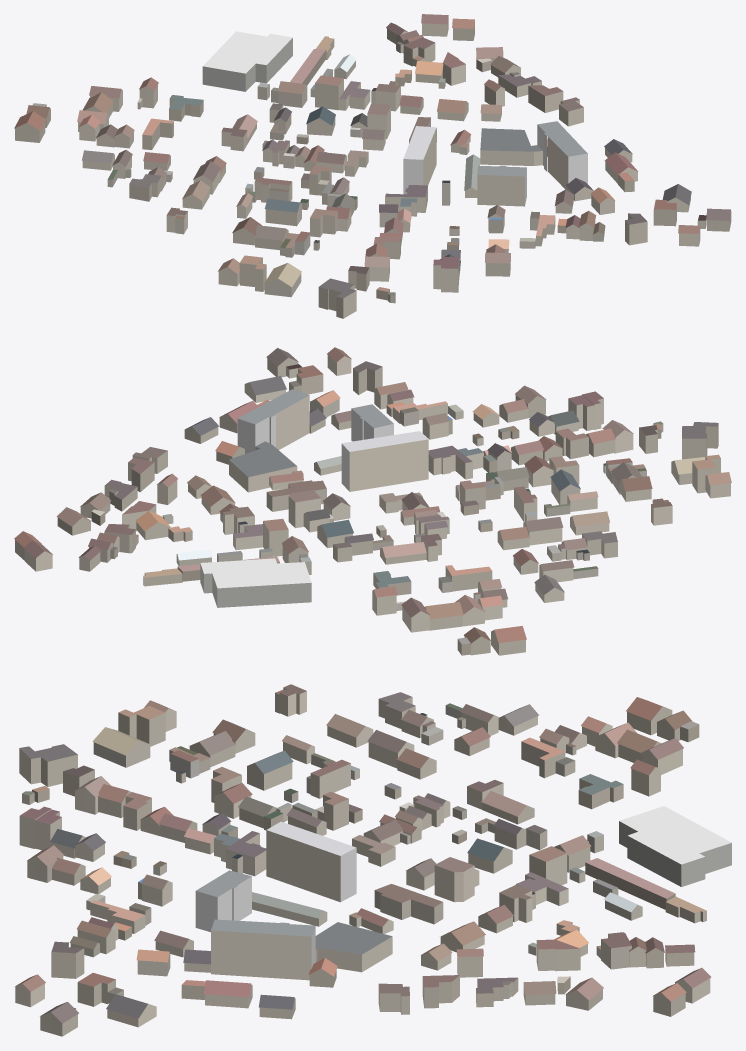
3 renders of one model, top to bottom at view 1: azimuth 30°, elevation 25°; view 2: azimuth 150°, elevation 25°; view 3: azimuth 270°, elevation 25°, orthographic. The views are drawn at different scales.
Parts seen in each view (by area): view 1: tuile; view 2: tuile; view 3: tuile.
Part boxes in pixels (x1=…): tuile: x1=14, y1=14, x2=731, y2=318; tuile: x1=14, y1=347, x2=731, y2=655; tuile: x1=15, y1=684, x2=731, y2=1036.
Bounding box in the file's own units: 253 × 28.81 × 264.
